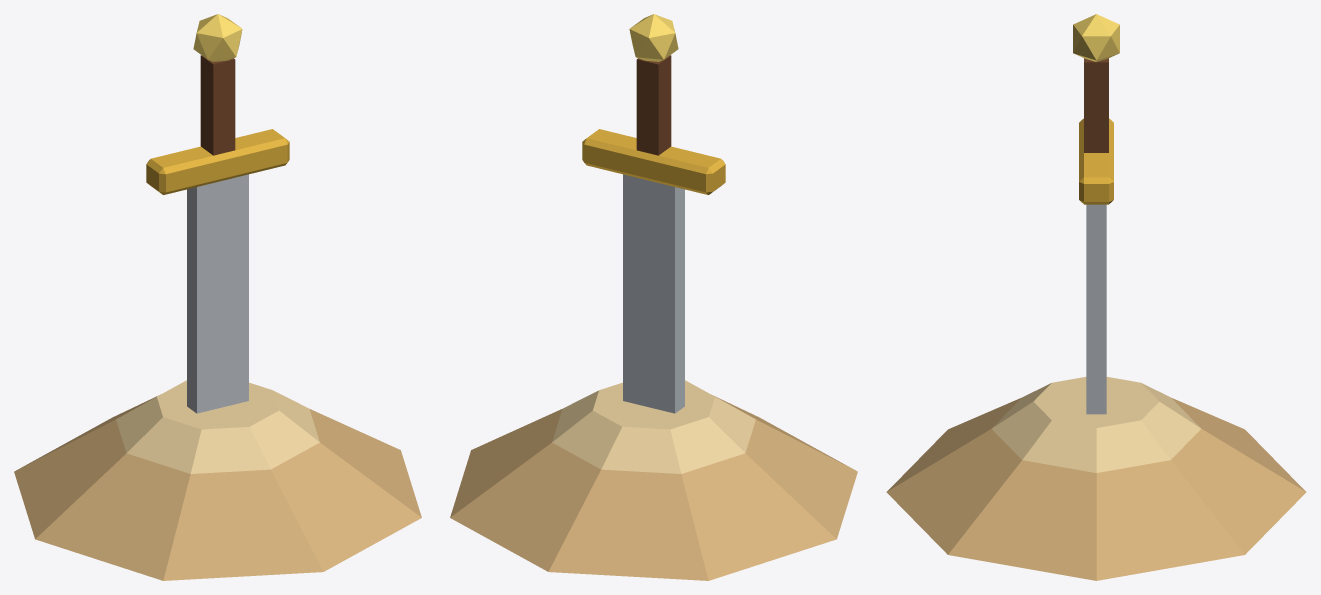
The model's file is PR_GiftWeapon.fbx.
The picture shows the model from 3 angles, left to right: view 1: azimuth 30°, elevation 25°; view 2: azimuth 150°, elevation 25°; view 3: azimuth 270°, elevation 25°; orthographic projection.
Parts seen in each view (by area): view 1: PR_GiftWeapon_Mesh; view 2: PR_GiftWeapon_Mesh; view 3: PR_GiftWeapon_Mesh.
Boxes of the visible parts, left/top/right/bottom form: PR_GiftWeapon_Mesh: left=14, top=14, right=421, bottom=580; PR_GiftWeapon_Mesh: left=450, top=14, right=857, bottom=580; PR_GiftWeapon_Mesh: left=886, top=14, right=1306, bottom=580.
Size of the model in its own units: 0.84 by 0.84 by 1.05.
